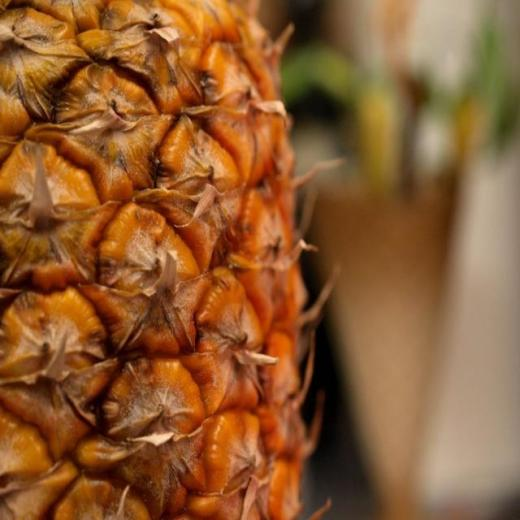Mango: (0, 0, 347, 519)
